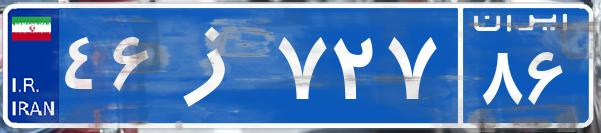2: (330, 28, 385, 110)
4: (57, 26, 110, 107)
6: (110, 28, 158, 105), (525, 38, 570, 115)
7: (385, 28, 445, 110), (273, 28, 330, 110)
8: (475, 38, 525, 113)
ز: (158, 15, 273, 115)
